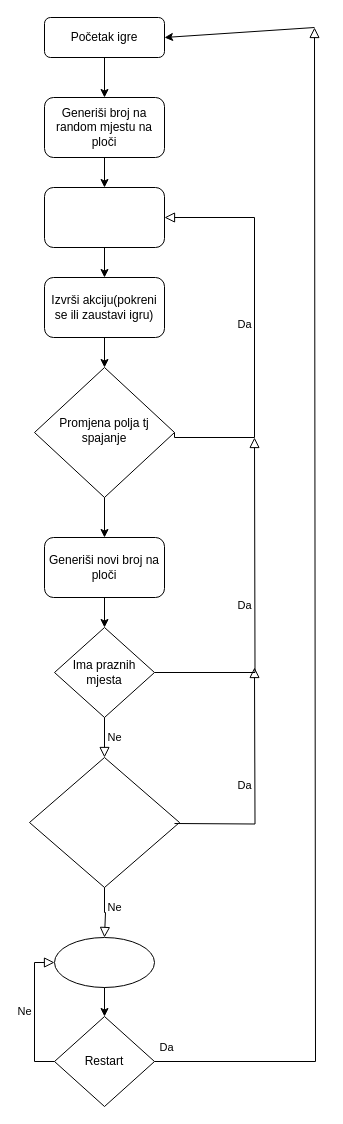
The diagram is 343 pixels wide and 1124 high, and some of its shapes have lost their labels. The shapes that lost their labels are listed below. From the top down, each one's centre as x and y in pixels, then its label:
At point (104, 217): "Korisnik unosi akciju".
At point (104, 822): "Mogućnost obavljanja poteza".
At point (104, 962): "KRAJ".
